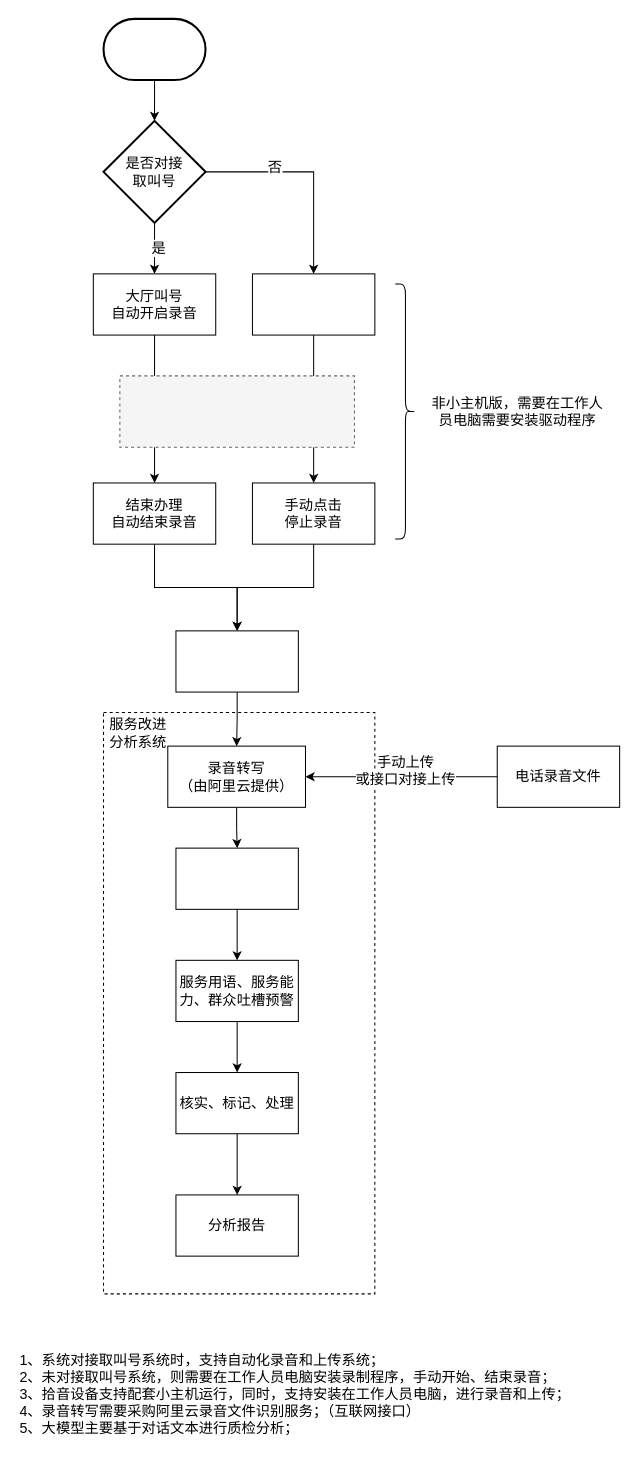
This 638x1464 diagram has some shape labels left out. Each missing label, with the centre of its shape:
"业务办理" goes at point (236, 411).
"大模型分析" goes at point (236, 878).
"开始" goes at point (154, 49).
"录音文件 自动上传" goes at point (236, 661).
"手动点击 开始录音" goes at point (313, 304).
